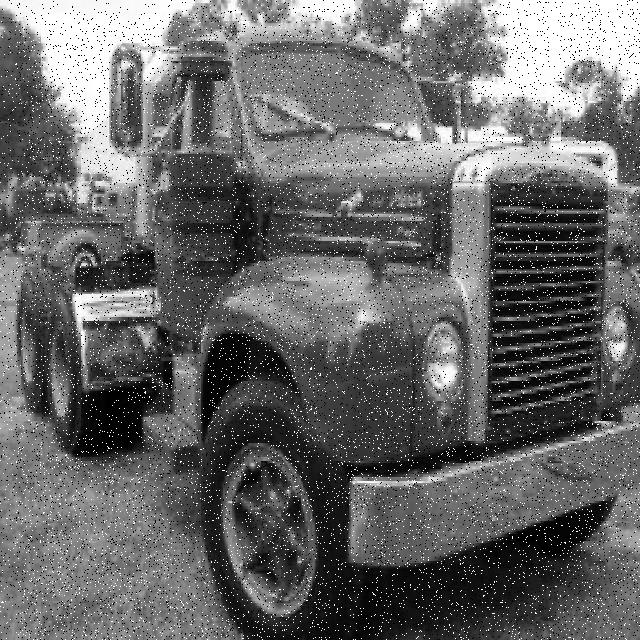Box Truck: (16, 9, 640, 640)
